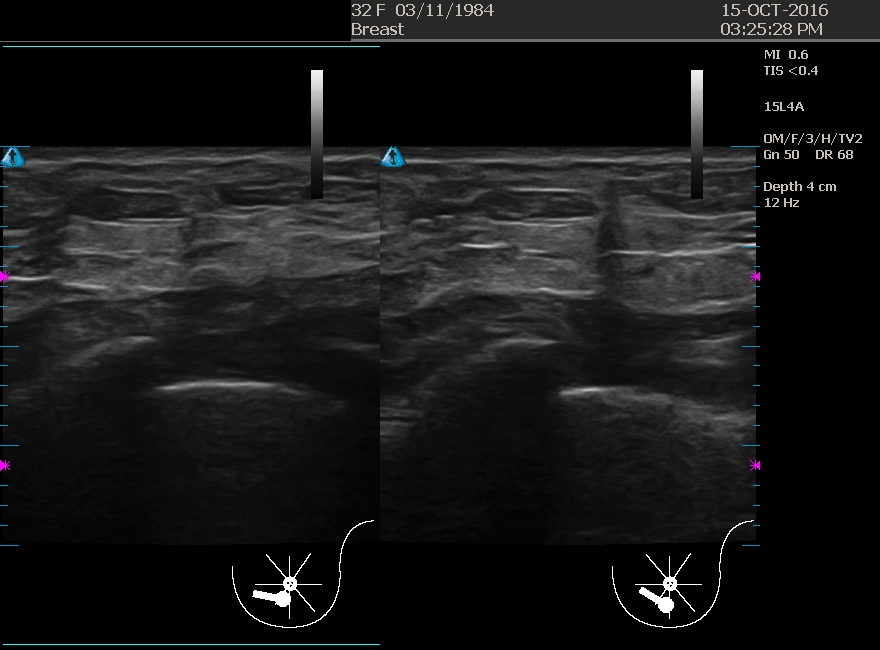Benign: (430, 164, 630, 364), (26, 155, 226, 355)
